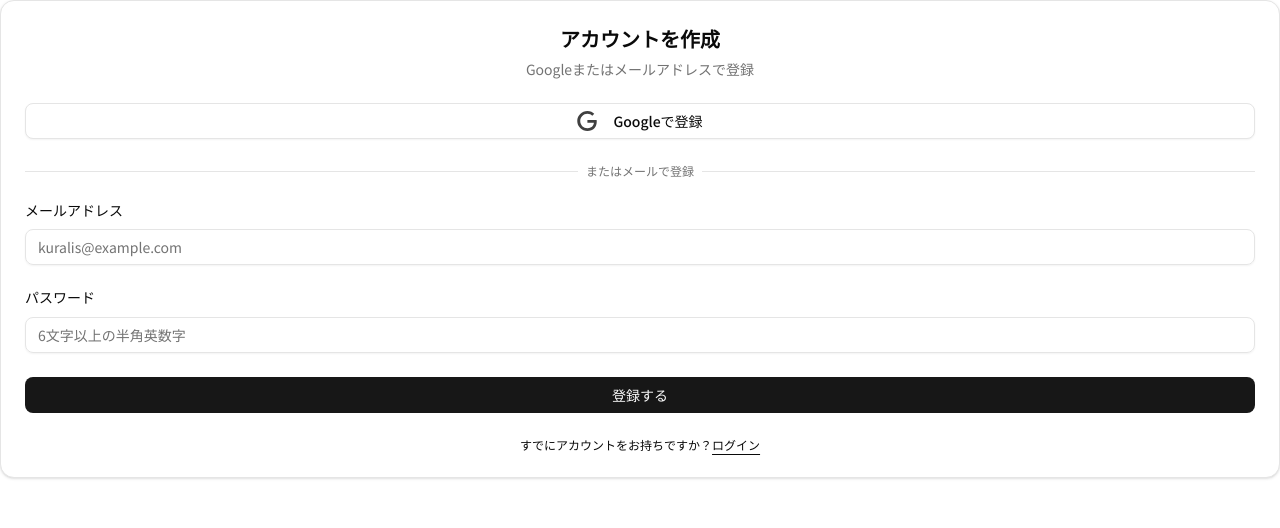
SignupForm › フォームバリデーション › メールアドレスが空の場合、エラーメッセージが表示される
In the password field labelled "パスワード": (640, 335) [25,317,1255,353], type "password123"
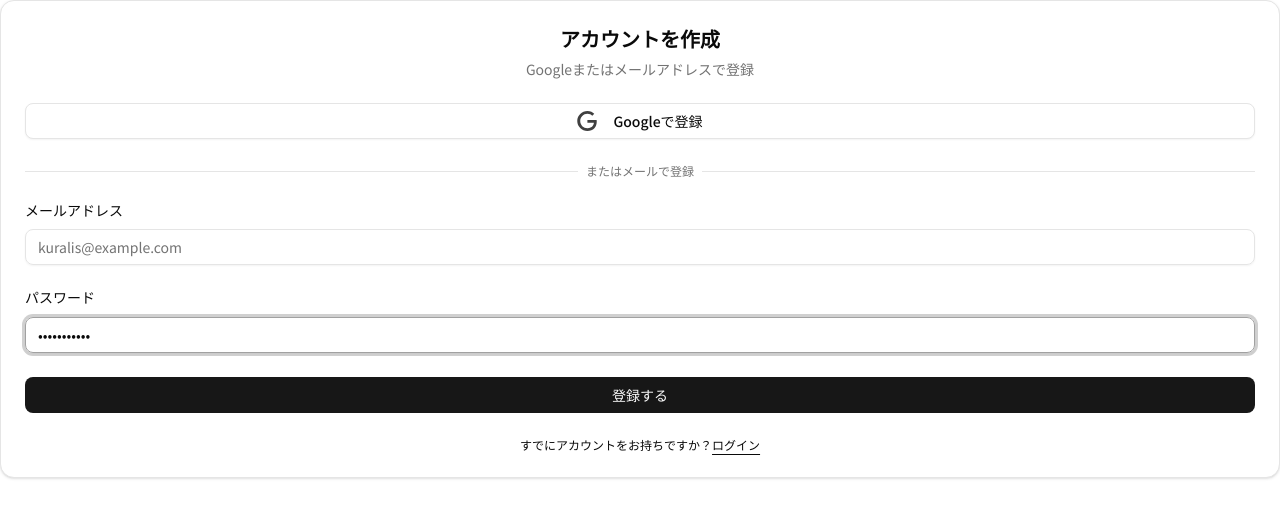
Click the button "登録する": (640, 395) [25,377,1255,413]
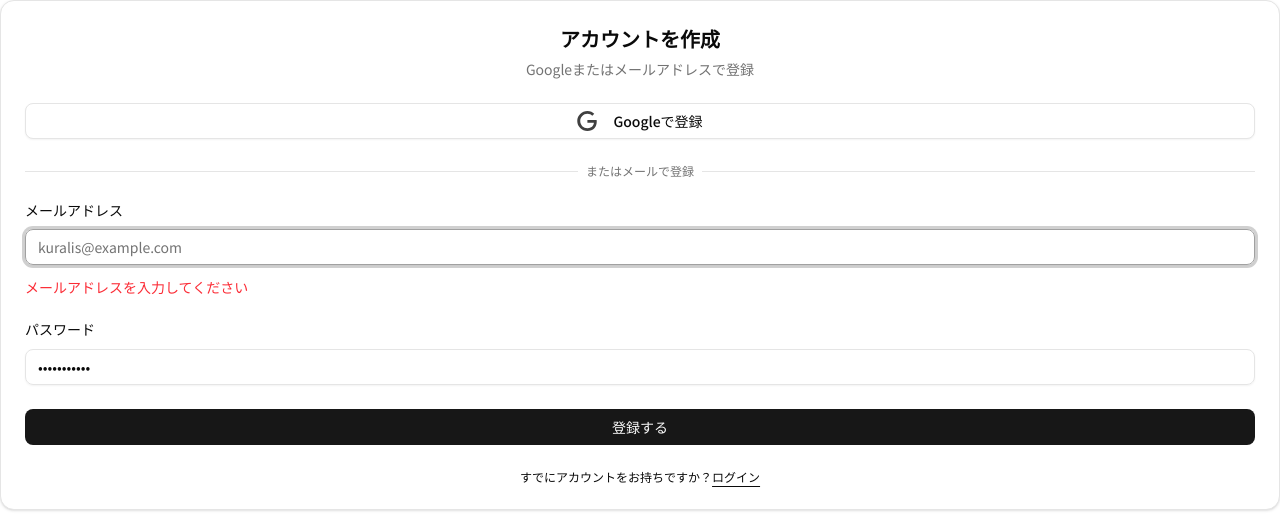
Now the text "メールアドレスを入力してください" is shown, box [25,277,248,297]
